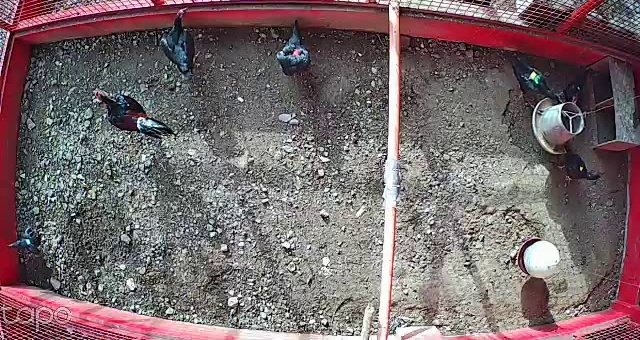Chicken: (156, 3, 211, 77), (504, 47, 564, 106), (275, 15, 316, 79), (6, 223, 58, 266), (553, 144, 604, 186), (556, 65, 593, 110)
Rooster: (93, 87, 177, 142)
Saddle_Color_Red: (291, 50, 301, 56)
Saddle_Color_YellowGreen: (527, 70, 541, 85)
